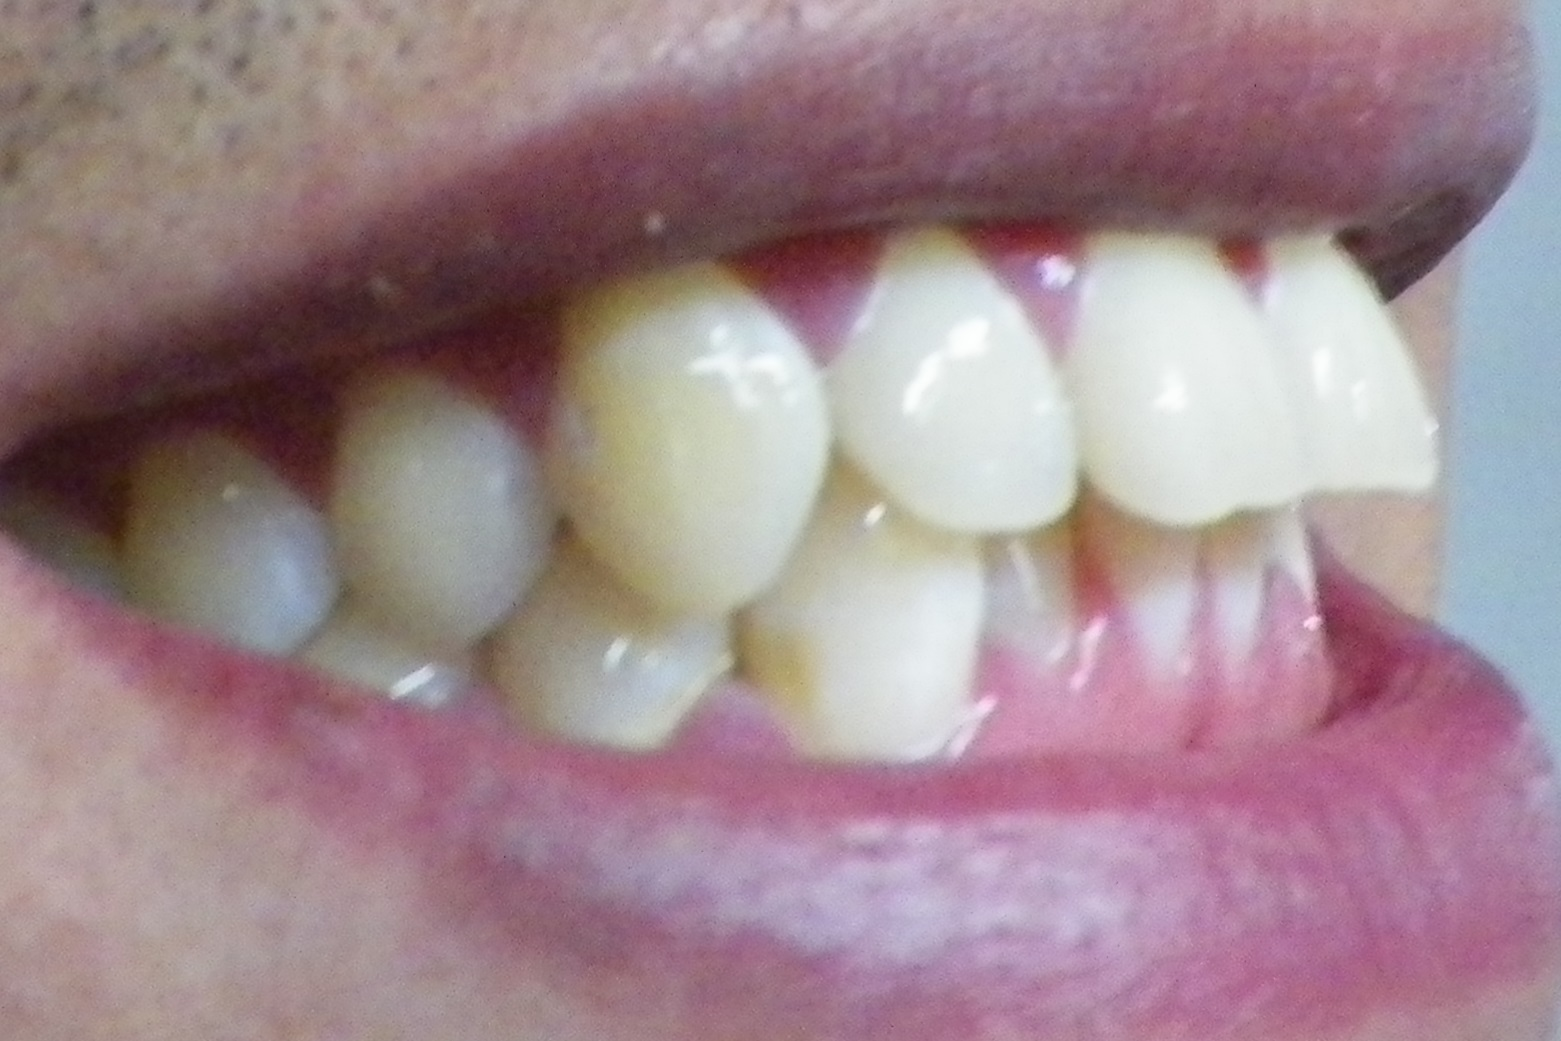boca: (141, 218, 1436, 751)
